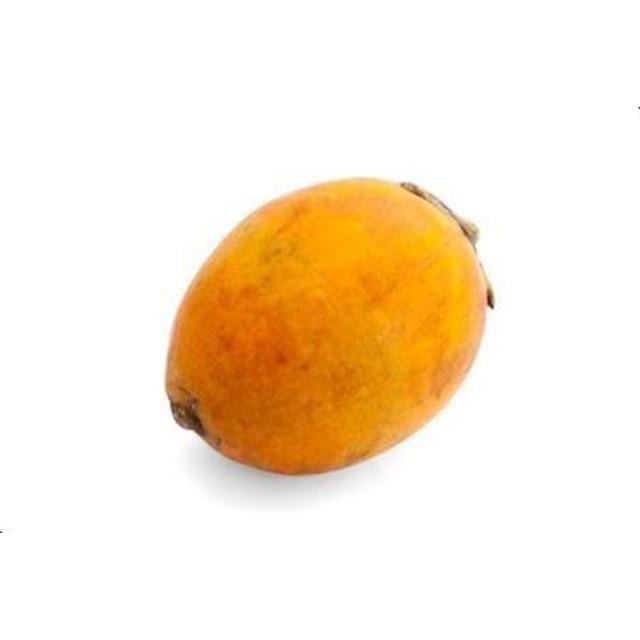good: (164, 178, 492, 477)
